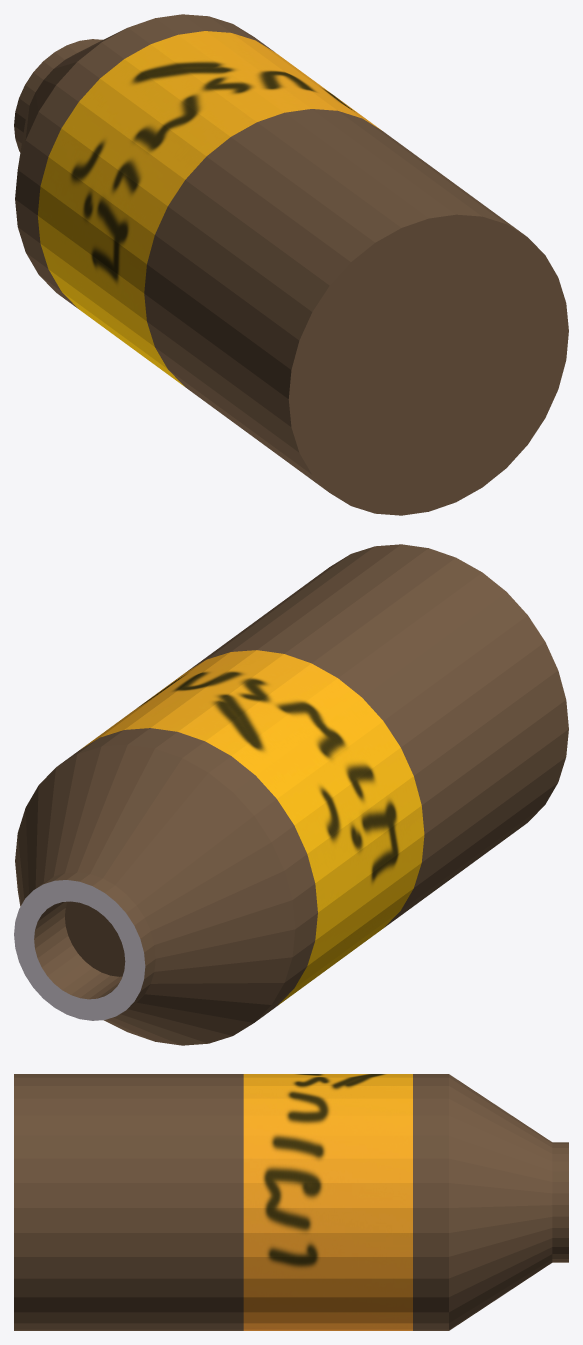
The model's file is bottleofmakam.fbx.
3 renders of one model, top to bottom at view 1: azimuth 30°, elevation 25°; view 2: azimuth 150°, elevation 25°; view 3: azimuth 270°, elevation 25°, orthographic. The views are drawn at different scales.
Parts seen in each view (by area): view 1: Cylinder; view 2: Cylinder; view 3: Cylinder.
Boxes of the visible parts, x1,y1,x2,y2 form: Cylinder: (14, 14, 568, 515); Cylinder: (14, 544, 568, 1045); Cylinder: (14, 1074, 568, 1330).
Bounding box in the file's own units: 200 × 200 × 432.
3 materials, 1 textured.
